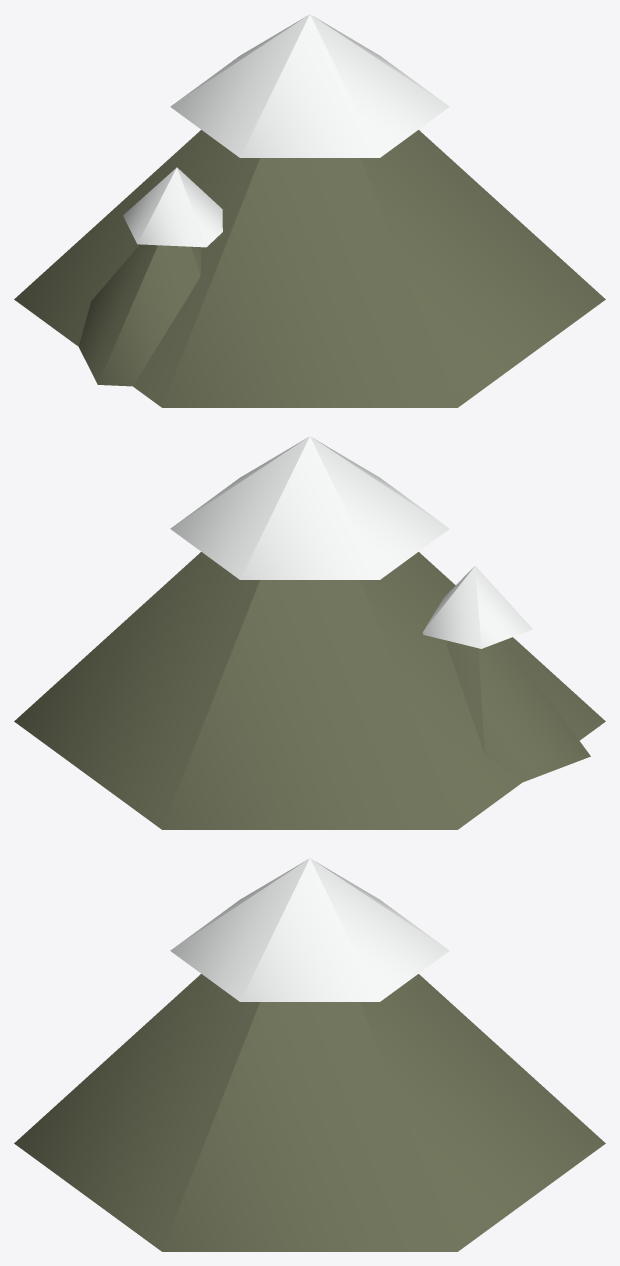
File: mountain.glb
The picture shows the model from 3 angles, top to bottom: view 1: azimuth 30°, elevation 25°; view 2: azimuth 150°, elevation 25°; view 3: azimuth 270°, elevation 25°; orthographic projection.
Size of the model in its own units: 10.06 by 5.85 by 11.
